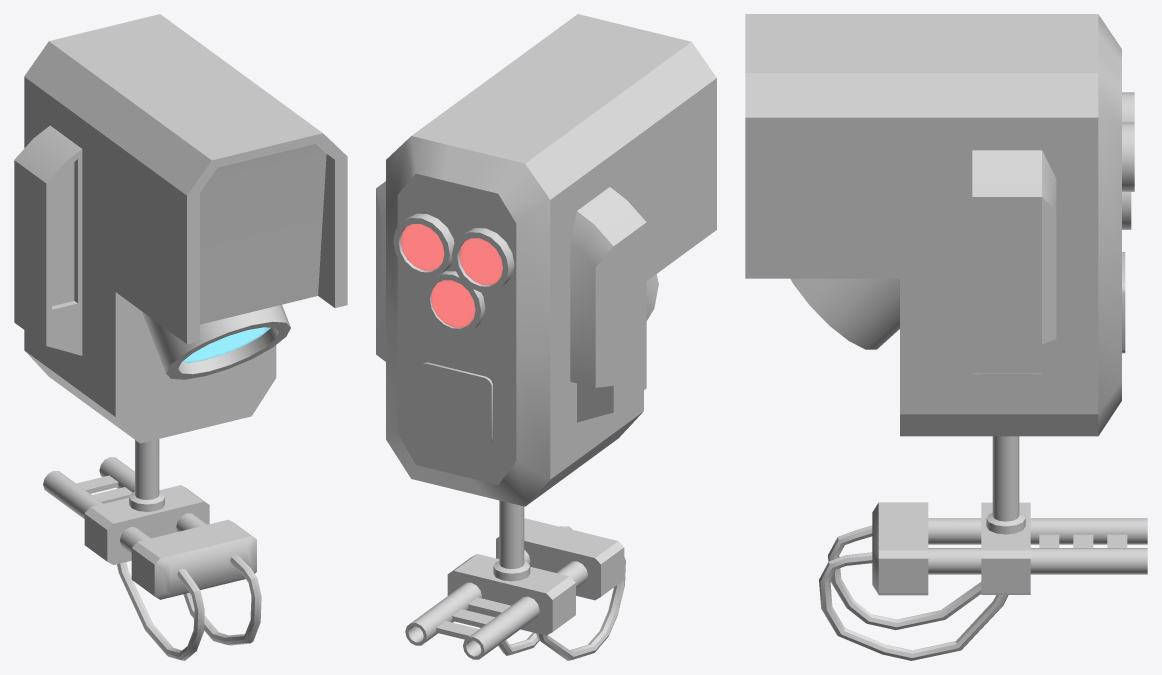
The model's file is Robot_Invader.fbx.
3 views of the same model, side by side, from view 1: azimuth 30°, elevation 25°; view 2: azimuth 150°, elevation 25°; view 3: azimuth 270°, elevation 25° (orthographic). The views are drawn at different scales.
Parts seen in each view (by area): view 1: Robot_Invader; view 2: Robot_Invader; view 3: Robot_Invader.
Part boxes in pixels (x1,y1,x2,y2): Robot_Invader: (14, 14, 347, 660); Robot_Invader: (376, 14, 716, 660); Robot_Invader: (745, 14, 1147, 660).
Size of the model in its own units: 52.29 by 120 by 72.34.
